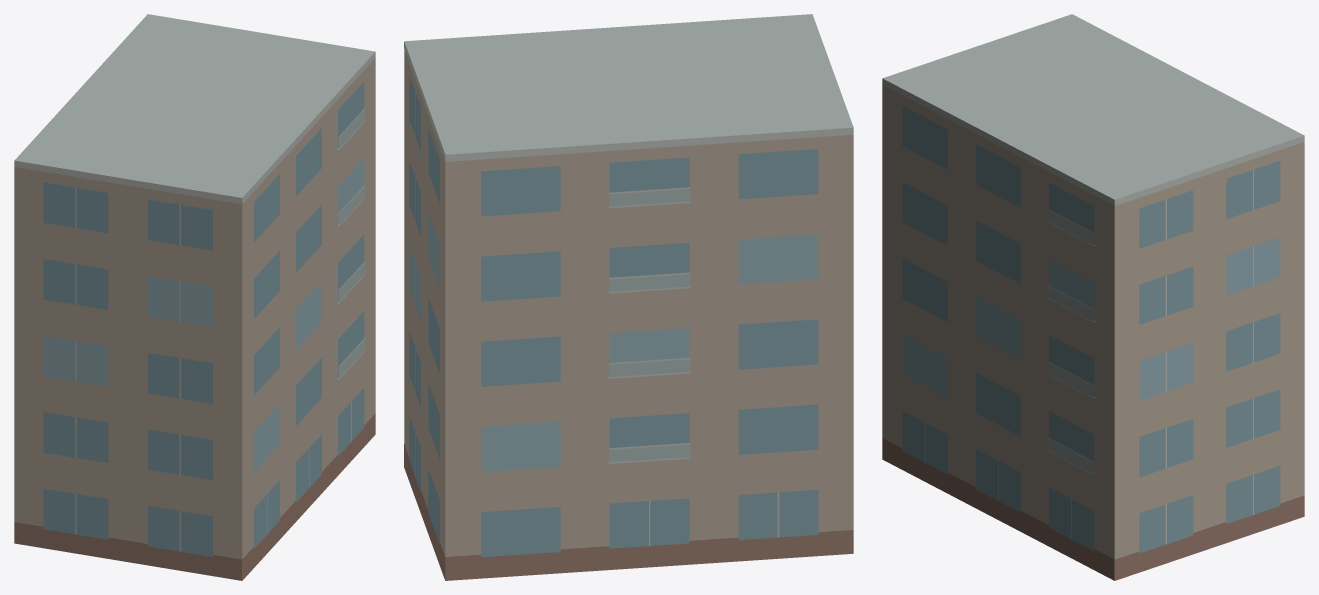
File: survey-upis-32912604.glb
3 views of the same model, side by side, from view 1: azimuth 30°, elevation 25°; view 2: azimuth 150°, elevation 25°; view 3: azimuth 270°, elevation 25° (orthographic). The views are drawn at different scales.
Parts seen in each view (by area): view 1: survey-upis-32912604.tmp; view 2: survey-upis-32912604.tmp; view 3: survey-upis-32912604.tmp.
Part boxes in pixels (box(x1,y1,x2,y2)): survey-upis-32912604.tmp: box(14, 14, 375, 580); survey-upis-32912604.tmp: box(404, 14, 853, 580); survey-upis-32912604.tmp: box(882, 14, 1304, 580).
Size of the model in its own units: 15.49 by 14.8 by 14.87.
